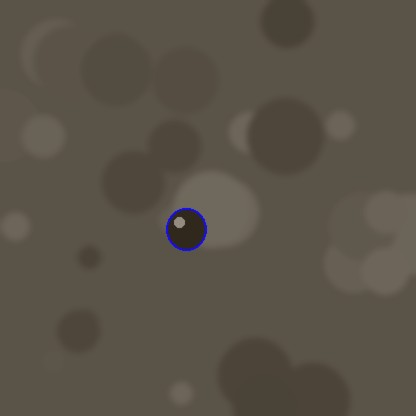gota: (166, 210, 206, 254)
